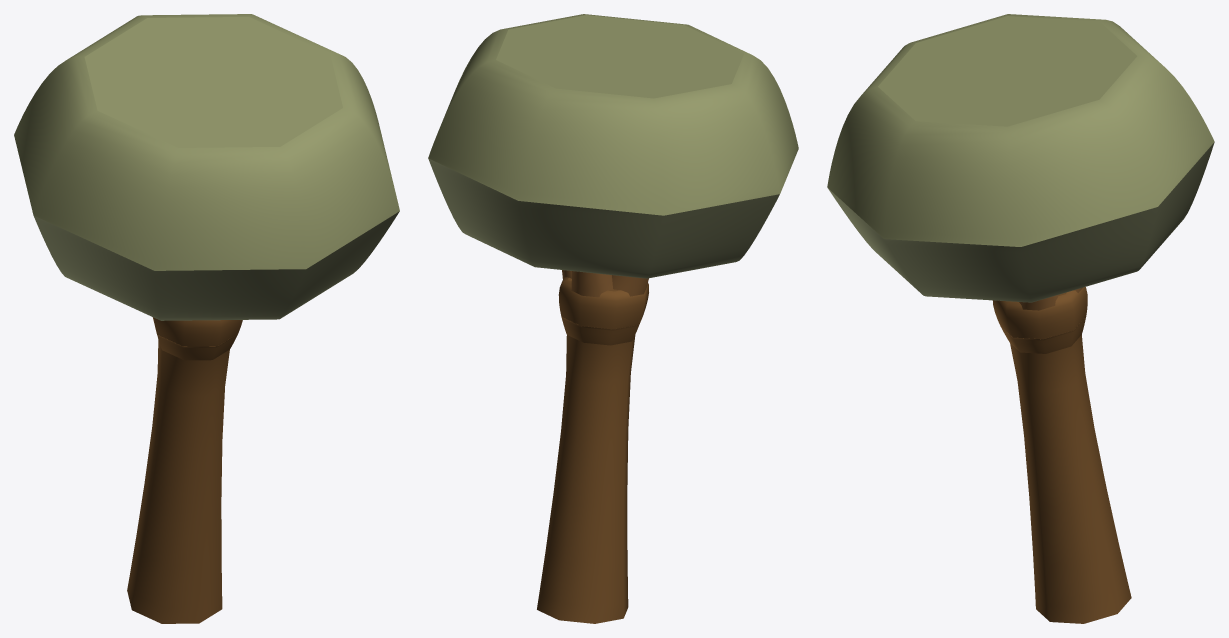
The model's file is Trees(1).glb.
3 renders of one model, left to right at view 1: azimuth 30°, elevation 25°; view 2: azimuth 150°, elevation 25°; view 3: azimuth 270°, elevation 25°, orthographic. The views are drawn at different scales.
Parts seen in each view (by area): view 1: Root; view 2: Root; view 3: Root.
Boxes of the visible parts, x1,y1,x2,y2 form: Root: (14,14,399,623); Root: (428,14,798,623); Root: (827,14,1214,623).
Size of the model in its own units: 1.88 by 2.94 by 1.87.
